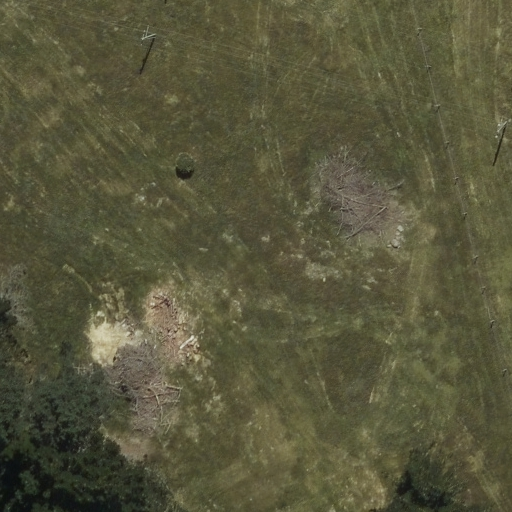DT: (487, 114, 512, 145), (138, 24, 162, 52)
